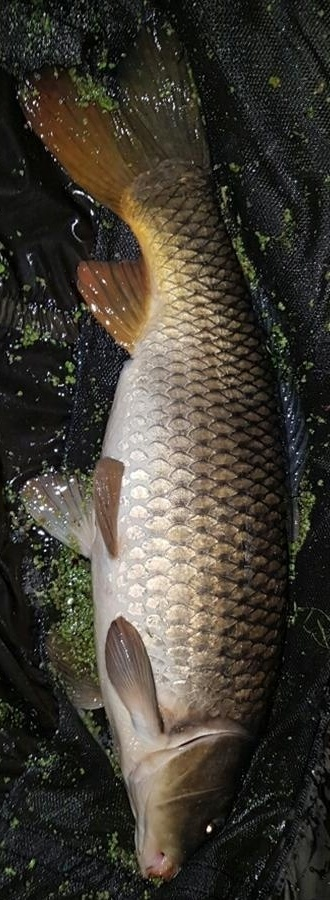Cyprinus carpio: (20, 20, 310, 880)
